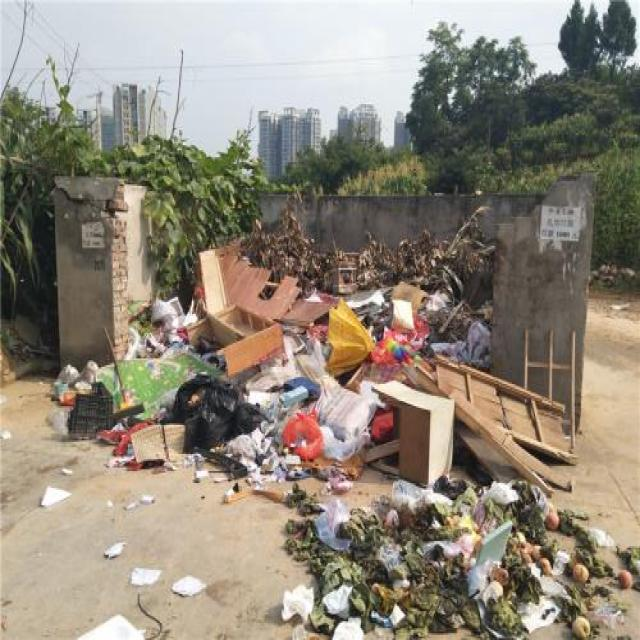garbage: (34, 249, 638, 638)
